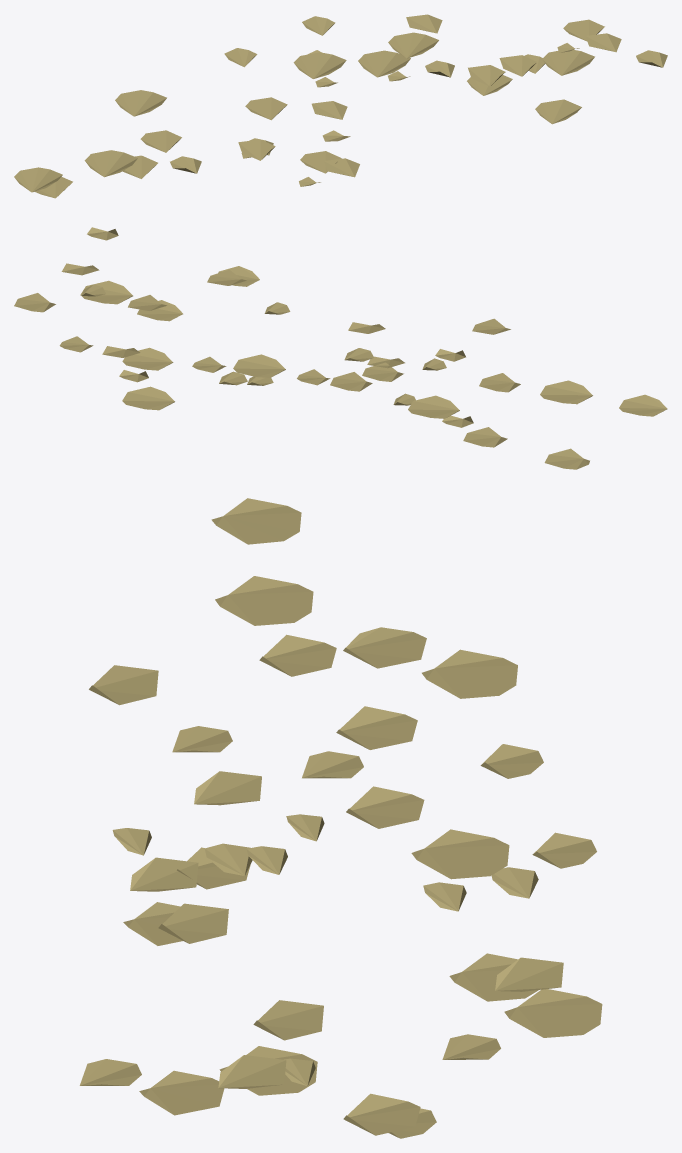
File: xiyuan-vegetation-01-medium.glb
3 views of the same model, one above another, from view 1: azimuth 30°, elevation 25°; view 2: azimuth 150°, elevation 25°; view 3: azimuth 270°, elevation 25° (orthographic). The views are drawn at different scales.
Parts seen in each view (by area): view 1: scalloped lotus leaves; view 2: scalloped lotus leaves; view 3: scalloped lotus leaves.
Boxes of the visible parts, bbox=[...] form: scalloped lotus leaves: bbox=[14, 14, 667, 198]; scalloped lotus leaves: bbox=[14, 227, 667, 469]; scalloped lotus leaves: bbox=[79, 498, 602, 1138].
Bounding box in the file's own units: 12.21 × 1.11 × 4.47.
